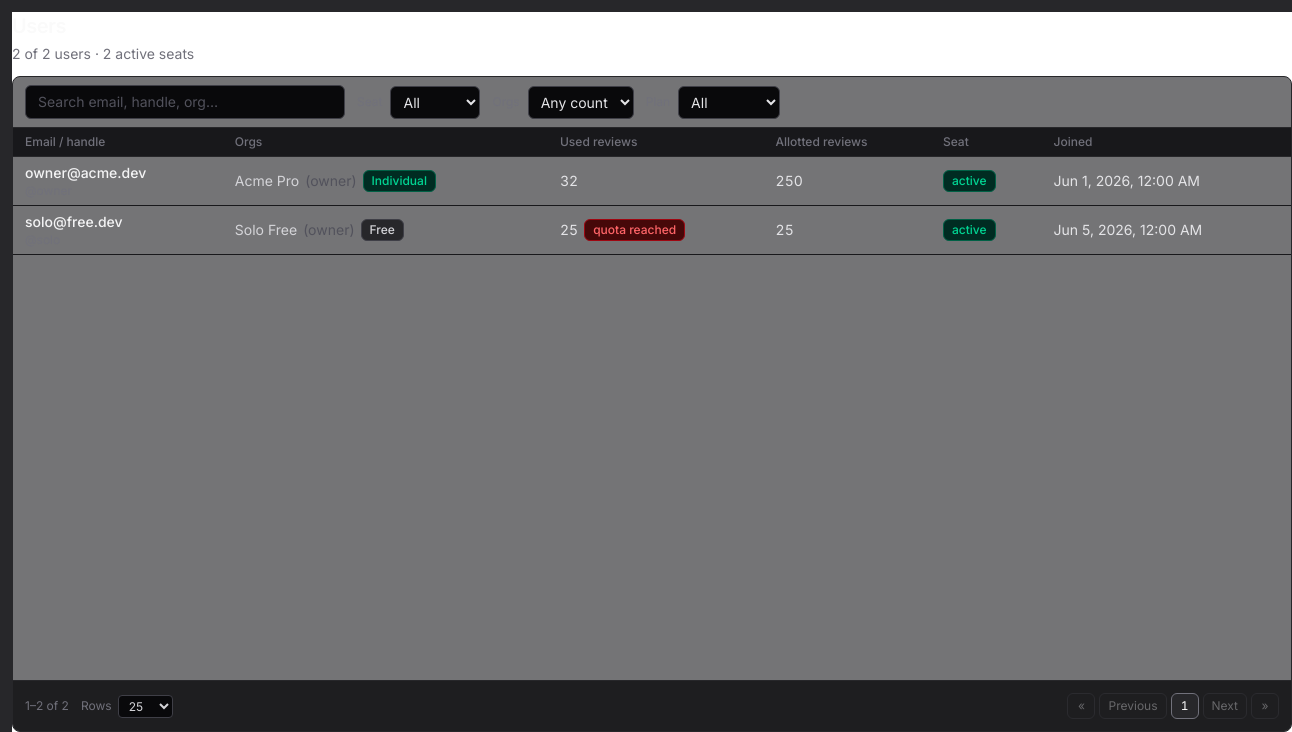
Test: Users page › filters the list down to users on a specific plan
expect the text "owner@acme.dev" is shown: met, box 25,164 -> 146,181
expect the text "solo@free.dev" is shown: met, box 25,213 -> 122,230
Select "Free" in the dropdown labelled "Plan" at (729, 102), box 678,86 -> 780,118
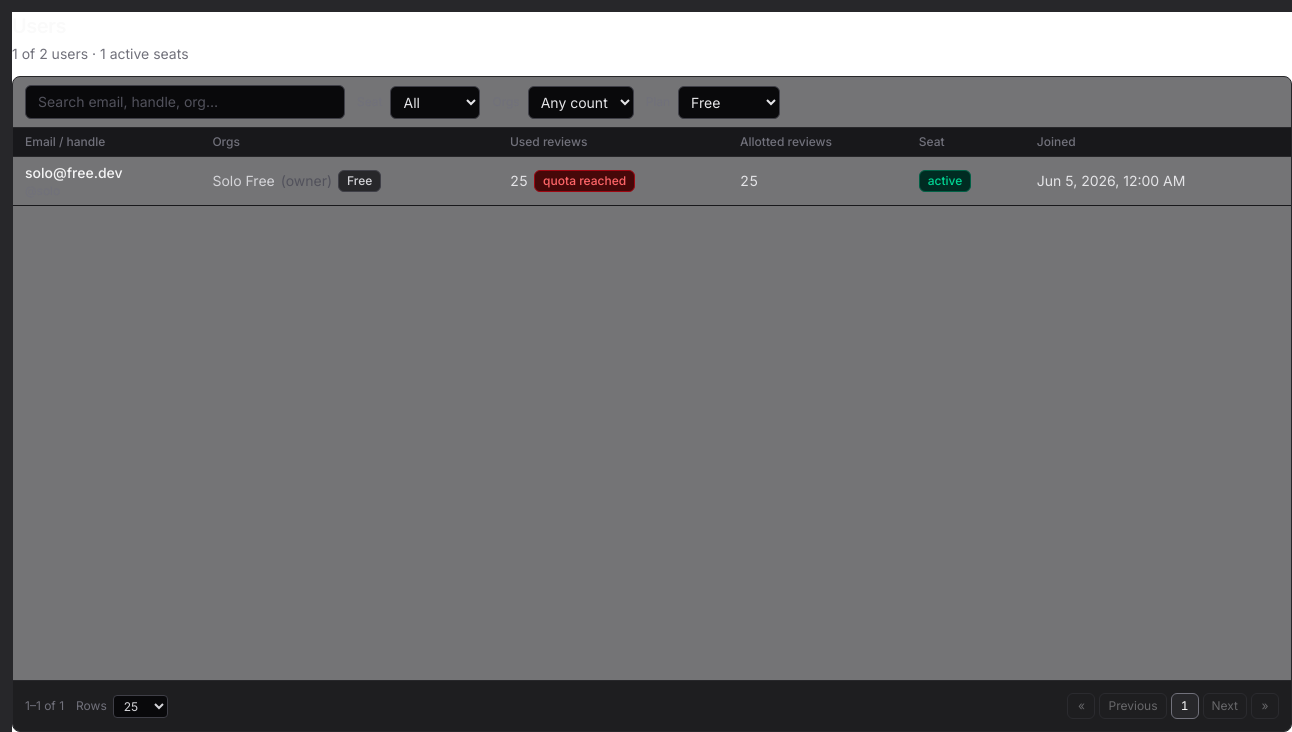
expect the text "solo@free.dev" is shown: met, box 25,164 -> 122,181
expect the text "owner@acme.dev" is gone: met
